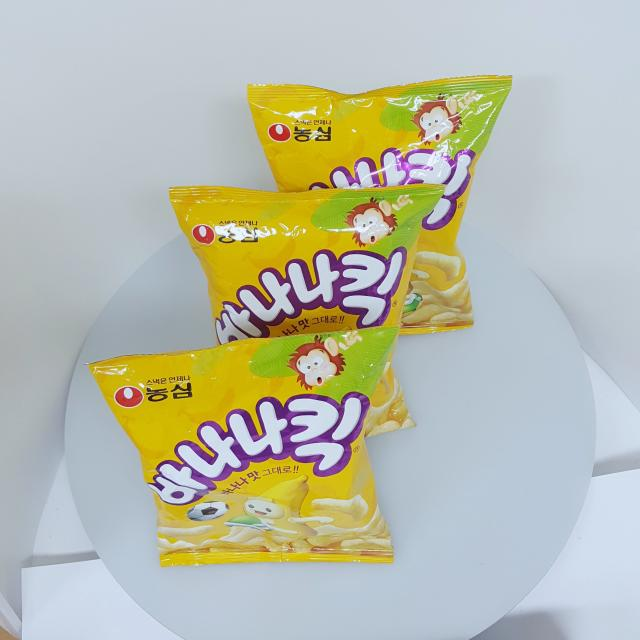-75G: (85, 324, 404, 568), (170, 184, 450, 440), (248, 75, 514, 337)
